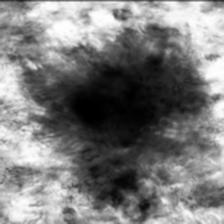Potentially Malignant Skin Tumors: (38, 82, 136, 150)
